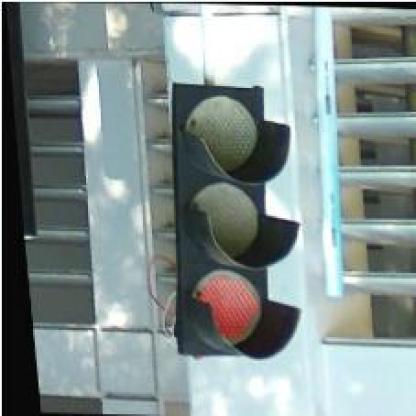red: (147, 81, 304, 359)
